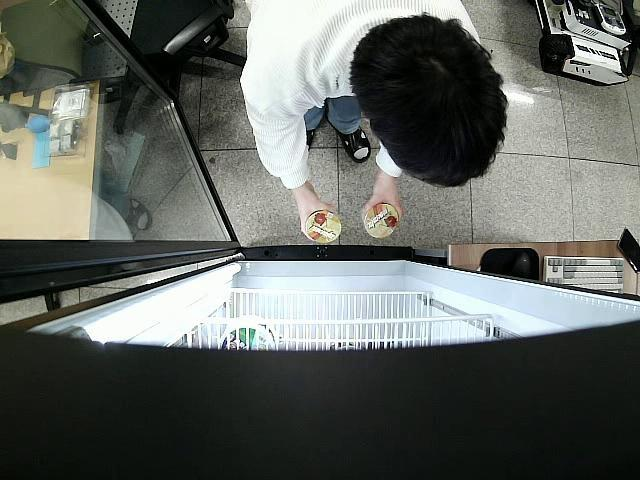04_chapagetti_S: (304, 208, 342, 244), (363, 204, 398, 238)
